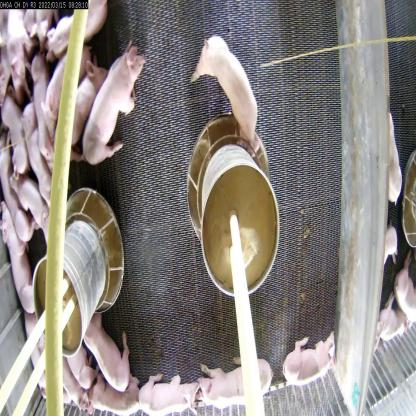Pig: (186, 36, 262, 154), (78, 42, 150, 166), (74, 296, 134, 397), (0, 198, 42, 320), (57, 61, 100, 164), (197, 356, 272, 412), (19, 102, 56, 211), (24, 61, 57, 164), (7, 166, 53, 238), (282, 333, 339, 391), (137, 370, 199, 416), (88, 368, 144, 415)
